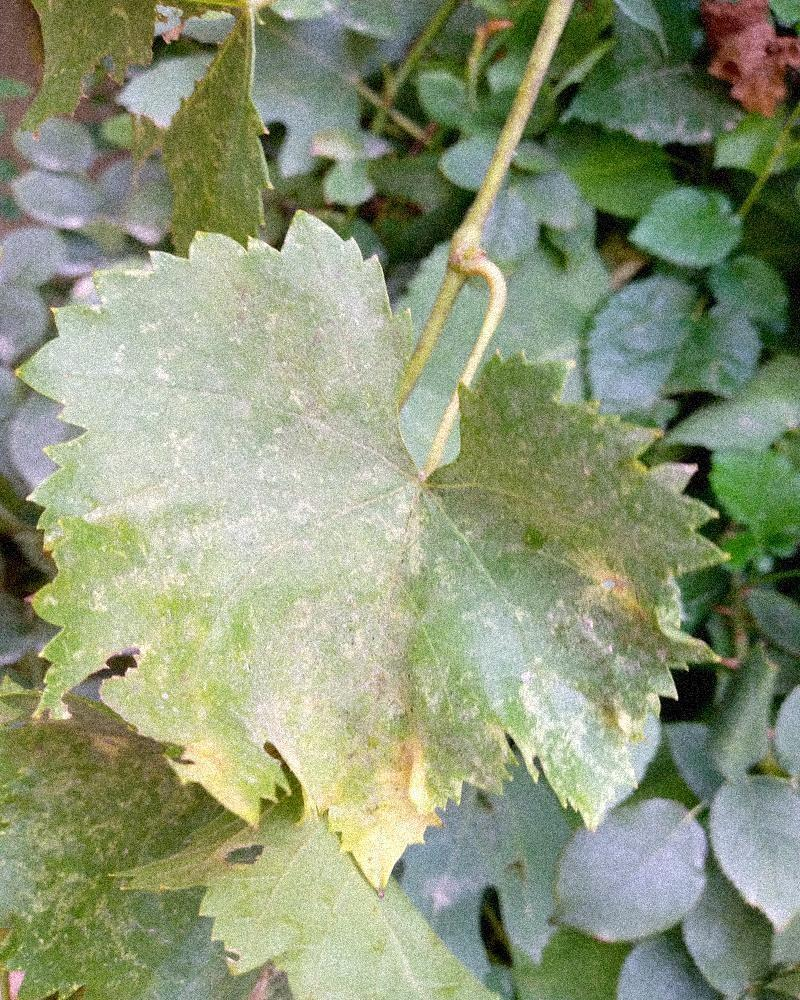Powdery-Mildew: (240, 261, 364, 446), (540, 523, 657, 705), (323, 691, 447, 858)
